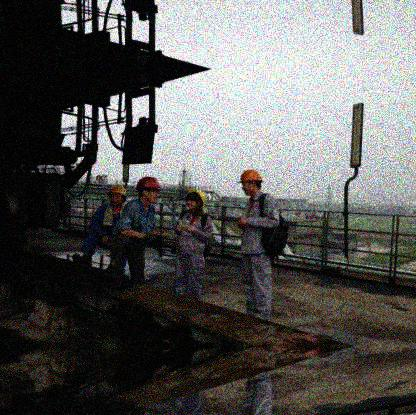helmet: (237, 168, 265, 196), (135, 175, 162, 204), (185, 188, 208, 209), (107, 184, 127, 205)
